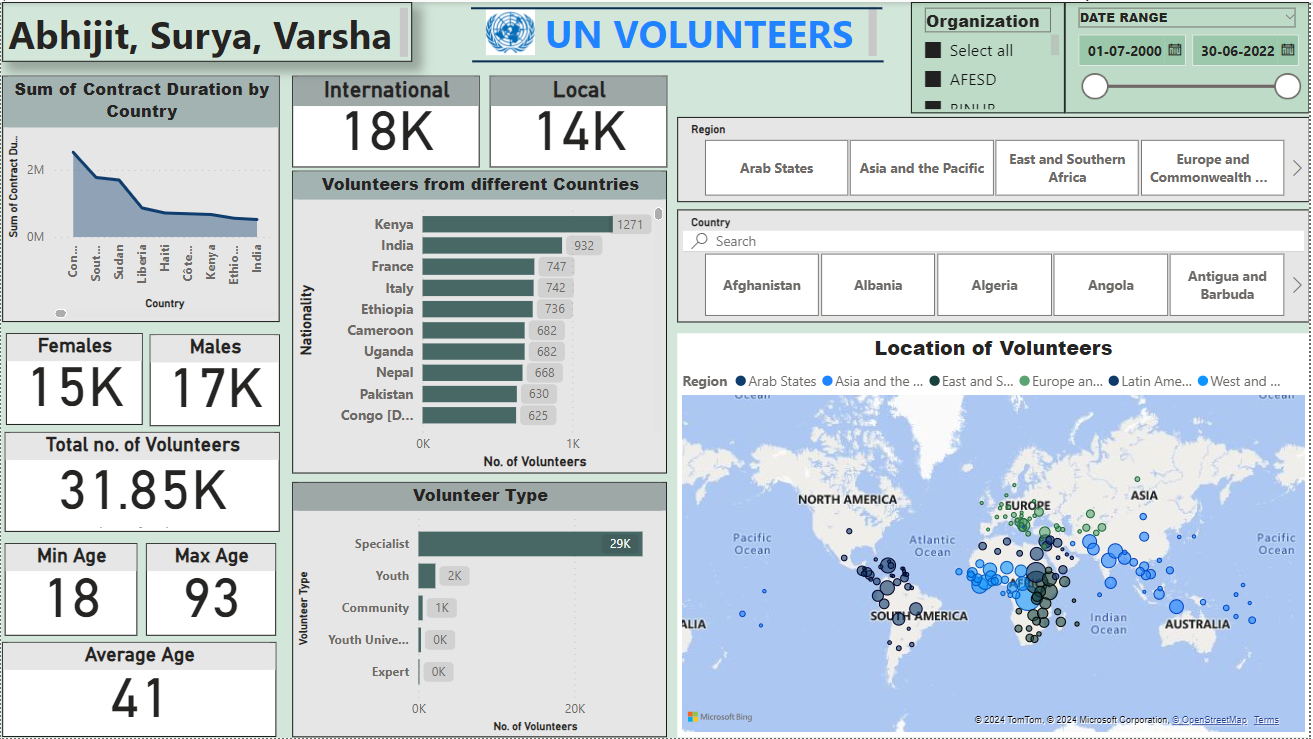

This screenshot's page, from the dashboard's own definition file:
{"tool":"powerbi","page":{"name":"DASHBOARD 1","canvas":[1280,720],"ordinal":0},"visuals":[{"type":"card","title":"Total no. of Volunteers","fields":{"Values":["Measure Table.Number of Volunteers"]},"box":[3.7,420.5,268.9,97.8],"z":0},{"type":"card","title":"Females","fields":{"Values":["Sum(UNVolunteer Data.Female)"]},"box":[4.9,323.9,133.2,89.2],"z":1000},{"type":"card","title":"Males","fields":{"Values":["Sum(UNVolunteer Data.Male)"]},"box":[145.5,325.2,127.1,89.2],"z":2000},{"type":"card","title":"Average Age","fields":{"Values":["Measure Table.Average Age"]},"box":[1.2,625.9,267.7,92.9],"z":3000},{"type":"card","title":"Max Age","fields":{"Values":["Max(UNVolunteer Data.Age)"]},"box":[141.8,529.3,127.1,90.5],"z":4000},{"type":"card","title":"Min Age","fields":{"Values":["Min(UNVolunteer Data.Age)"]},"box":[3.7,529.3,129.6,90.5],"z":5000},{"type":"card","title":"International","fields":{"Values":["CountNonNull(UNVolunteer Data.Assignment Type)"]},"box":[284.8,72.1,183.4,89.2],"z":6000},{"type":"card","title":"Local","fields":{"Values":["CountNonNull(UNVolunteer Data.Assignment Type)"]},"box":[478,72.1,173.6,89.2],"z":7000},{"type":"treemap","title":"Top 5 Volunteer Roles","fields":{"Group":["UNVolunteer Data.Job Title"],"Values":["CountNonNull(UNVolunteer Data.Volunteer Type)"]},"box":[863,382.6,354.5,294.6],"z":8000},{"type":"barChart","title":"Volunteer Type","fields":{"Category":["UNVolunteer Data.Volunteer Type"],"Y":["CountNonNull(UNVolunteer Data.Volunteer Id)"]},"box":[284.8,469.4,366.7,249.4],"z":9000},{"type":"clusteredBarChart","title":"Volunteers from different Countries","fields":{"Category":["UNVolunteer Data.Nationality"],"Y":["CountNonNull(UNVolunteer Data.Volunteer Id)"]},"box":[284.8,165,366.7,295.8],"z":10000},{"type":"map","title":"Location of  Volunteers","fields":{"Series":["UNVolunteer Data.Region"],"Size":["CountNonNull(UNVolunteer Data.Volunteer Id)"],"Category":["UNVolunteer Data.Country"]},"box":[661.3,323.9,618.5,394.8],"z":11000},{"type":"slicer","fields":{"Values":["UNVolunteer Data.Region"]},"box":[661.3,112.5,618.5,83.1],"z":12000},{"type":"slicer","fields":{"Values":["Date.Dates"]},"box":[1040.3,0,239.6,108.8],"z":13000},{"type":"slicer","fields":{"Values":["UNVolunteer Data.Country"]},"box":[661.3,202.9,618.5,110],"z":14000},{"type":"textbox","box":[1.2,0,401,58.7],"z":15000},{"type":"image","box":[469.4,0,57.5,58.7],"z":16000},{"type":"textbox","box":[526.9,0,334.9,58.7],"z":17000},{"type":"slicer","fields":{"Values":["UNVolunteer Data.Organization"]},"box":[889.9,0,150.4,108.8],"z":18000},{"type":"areaChart","fields":{"Category":["UNVolunteer Data.Country"],"Y":["Sum(UNVolunteer Data.Contract Duration)"]},"box":[1.2,72.1,271.4,240.8],"z":19000},{"type":"shape","box":[460.8,53.8,402.2,8.6],"z":19001},{"type":"shape","box":[459.6,0,402.2,12.2],"z":19002}]}

Visuals, with their boxes in screenshot pixels (x1, y1, x2, y2), scaled from the page's 1280x720 canvas onto the 1313x739 screenshot:
"Total no. of Volunteers" card: locate(4, 432, 280, 532)
"Females" card: locate(5, 332, 142, 424)
"Males" card: locate(149, 334, 280, 425)
"Average Age" card: locate(1, 642, 276, 738)
"Max Age" card: locate(145, 543, 276, 636)
"Min Age" card: locate(4, 543, 137, 636)
"International" card: locate(292, 74, 480, 166)
"Local" card: locate(490, 74, 668, 166)
"Top 5 Volunteer Roles" treemap: locate(885, 393, 1249, 695)
"Volunteer Type" barChart: locate(292, 482, 668, 738)
"Volunteers from different Countries" clusteredBarChart: locate(292, 169, 668, 473)
"Location of  Volunteers" map: locate(678, 332, 1312, 738)
slicer - UNVolunteer Data.Region: locate(678, 115, 1312, 201)
slicer - Date.Dates: locate(1067, 0, 1312, 112)
slicer - UNVolunteer Data.Country: locate(678, 208, 1312, 321)
textbox: locate(1, 0, 413, 60)
image: locate(482, 0, 540, 60)
textbox: locate(540, 0, 884, 60)
slicer - UNVolunteer Data.Organization: locate(913, 0, 1067, 112)
areaChart - UNVolunteer Data.Country x Sum(UNVolunteer Data.Contract Duration): locate(1, 74, 280, 321)
shape: locate(473, 55, 885, 64)
shape: locate(471, 0, 884, 13)
